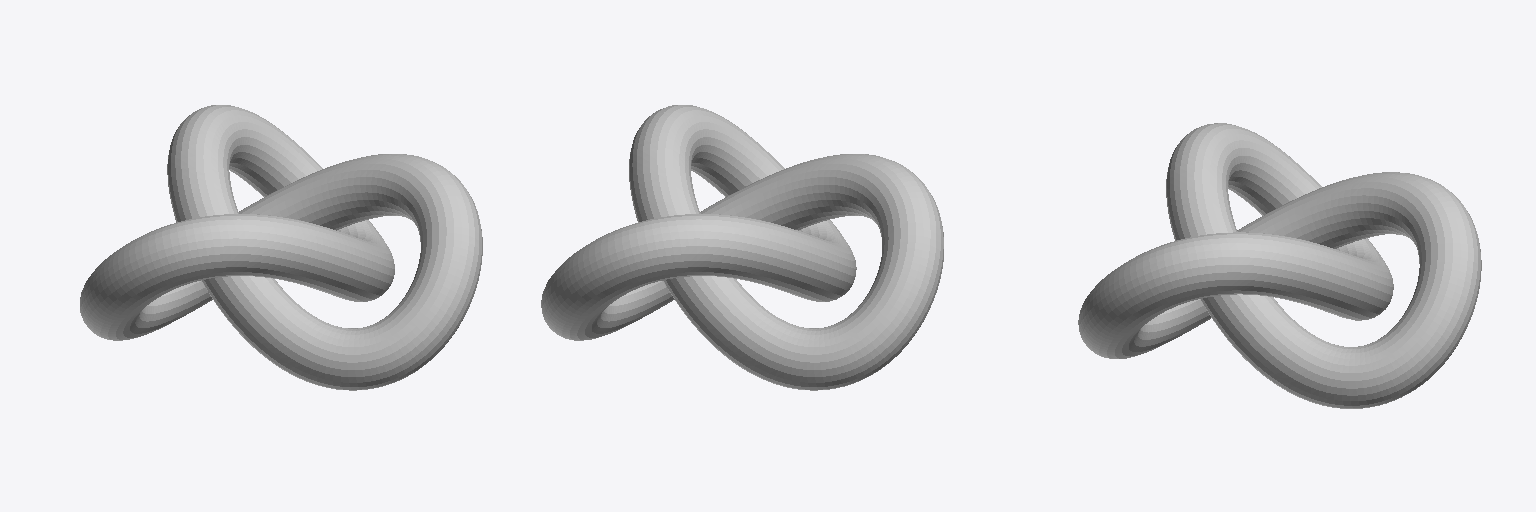
Rendered from torusknot1.obj.
3 views of the same model, side by side, from view 1: azimuth 30°, elevation 25°; view 2: azimuth 150°, elevation 25°; view 3: azimuth 270°, elevation 25° (orthographic).
Parts seen in each view (by area): view 1: TorusKnot; view 2: TorusKnot; view 3: TorusKnot.
Boxes of the visible parts, x1,y1,x2,y2 form: TorusKnot: [80, 105, 482, 390]; TorusKnot: [541, 105, 943, 390]; TorusKnot: [1078, 123, 1481, 408].
Size of the model in its own units: 6.06 by 3 by 6.47.